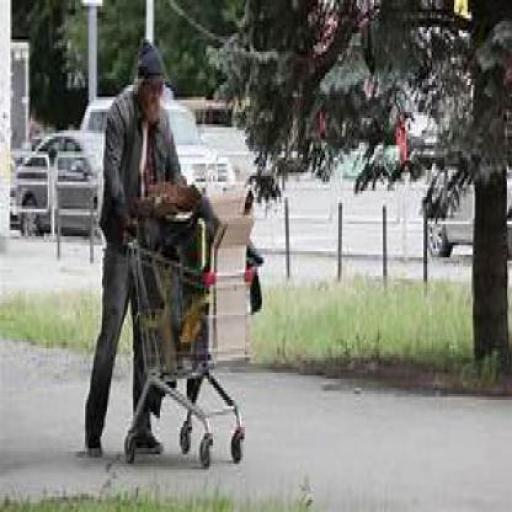shopping_cart: (122, 246, 257, 472)
